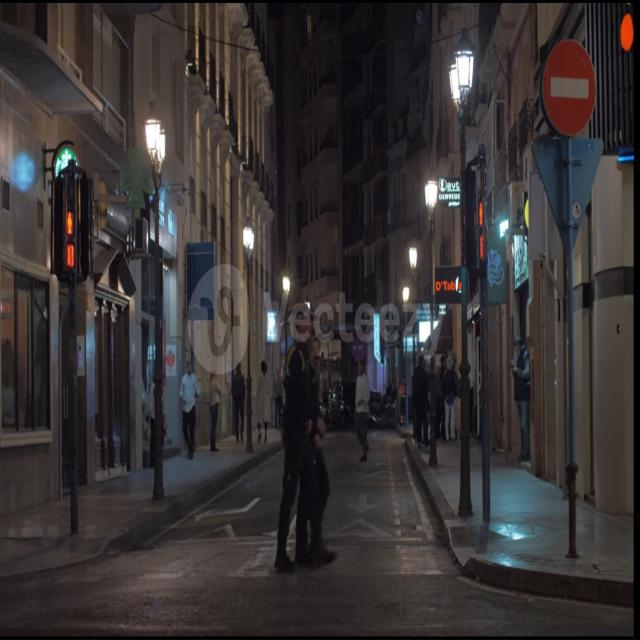pedestrian: (274, 316, 335, 571), (309, 341, 330, 520)
